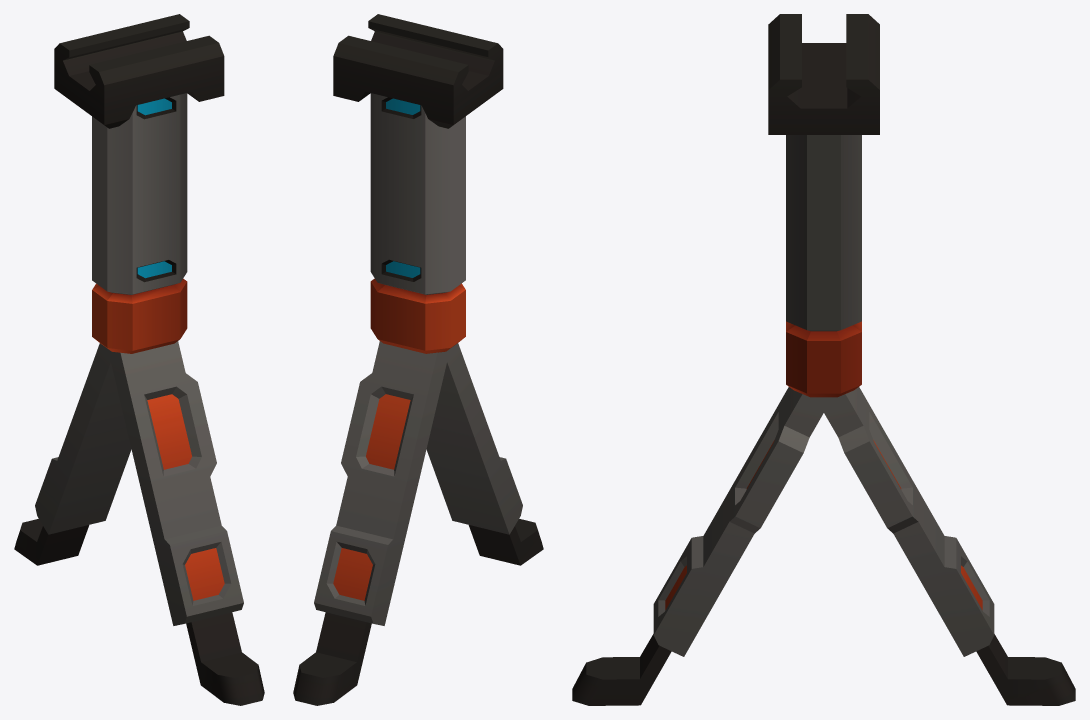
File: Foregrip_Vertical_04.fbx
3 renders of one model, left to right at view 1: azimuth 30°, elevation 25°; view 2: azimuth 150°, elevation 25°; view 3: azimuth 270°, elevation 25°, orthographic. The views are drawn at different scales.
Parts seen in each view (by area): view 1: Foregrip_Vertical_04; view 2: Foregrip_Vertical_04; view 3: Foregrip_Vertical_04.
Boxes of the visible parts, x1,y1,x2,y2 form: Foregrip_Vertical_04: (14,14,264,705); Foregrip_Vertical_04: (293,14,543,705); Foregrip_Vertical_04: (572,14,1075,705).
Size of the model in its own units: 5.46 by 25.09 by 17.67.
